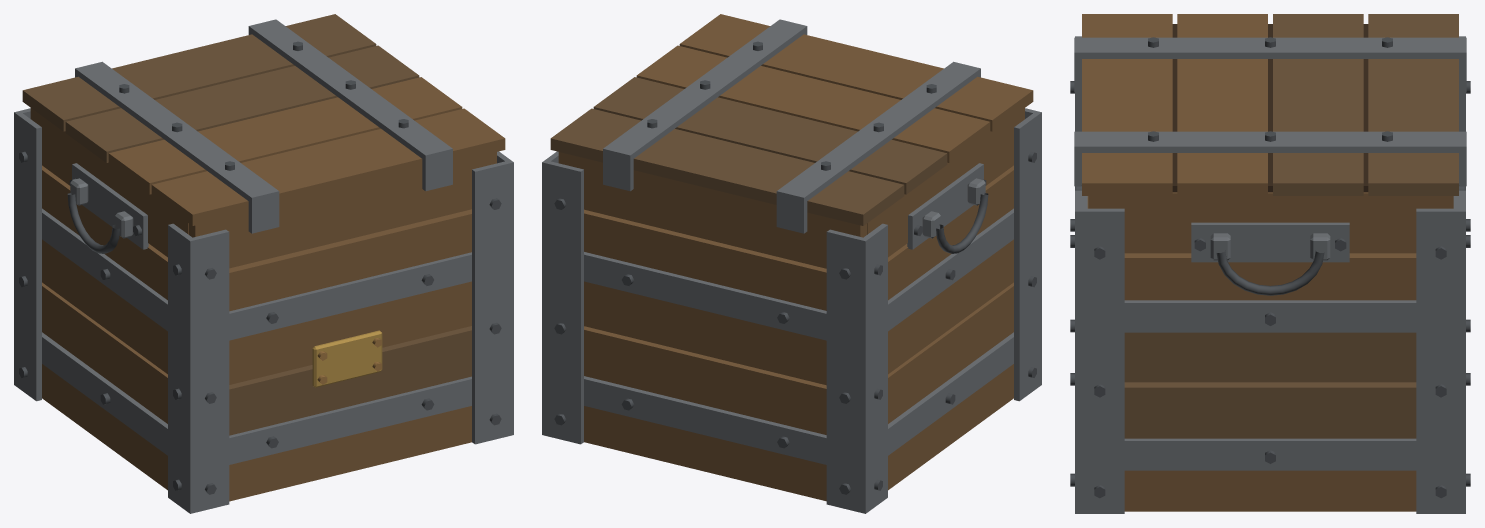
Rendered from SM_LPD_Crate_CrateBanded_01.fbx.
3 views of the same model, side by side, from view 1: azimuth 30°, elevation 25°; view 2: azimuth 150°, elevation 25°; view 3: azimuth 270°, elevation 25° (orthographic). The views are drawn at different scales.
Visible parts, largest first — view 1: SM_LPD_Crate_CrateBanded_01; view 2: SM_LPD_Crate_CrateBanded_01; view 3: SM_LPD_Crate_CrateBanded_01.
Boxes of the visible parts, x1=… form: SM_LPD_Crate_CrateBanded_01: x1=14, y1=14, x2=513, y2=513; SM_LPD_Crate_CrateBanded_01: x1=542, y1=14, x2=1041, y2=513; SM_LPD_Crate_CrateBanded_01: x1=1070, y1=14, x2=1470, y2=513.
Size of the model in its own units: 0.761 by 0.646 by 0.684.
